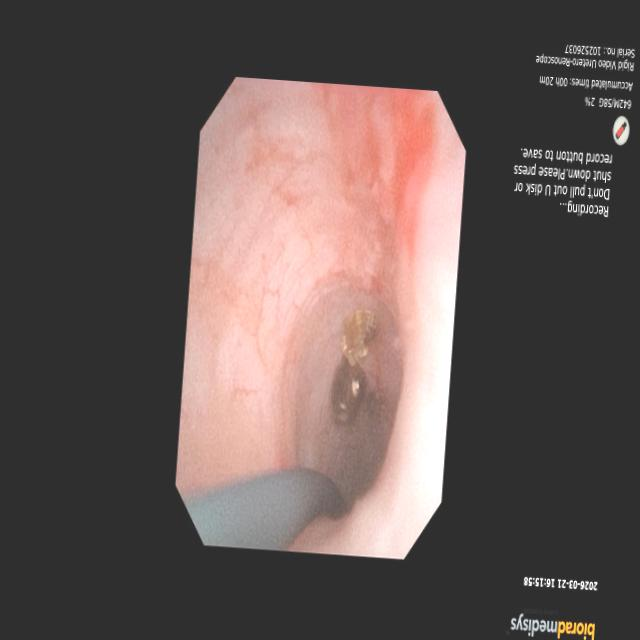stone-new: (330, 358, 366, 425), (340, 310, 376, 366)
